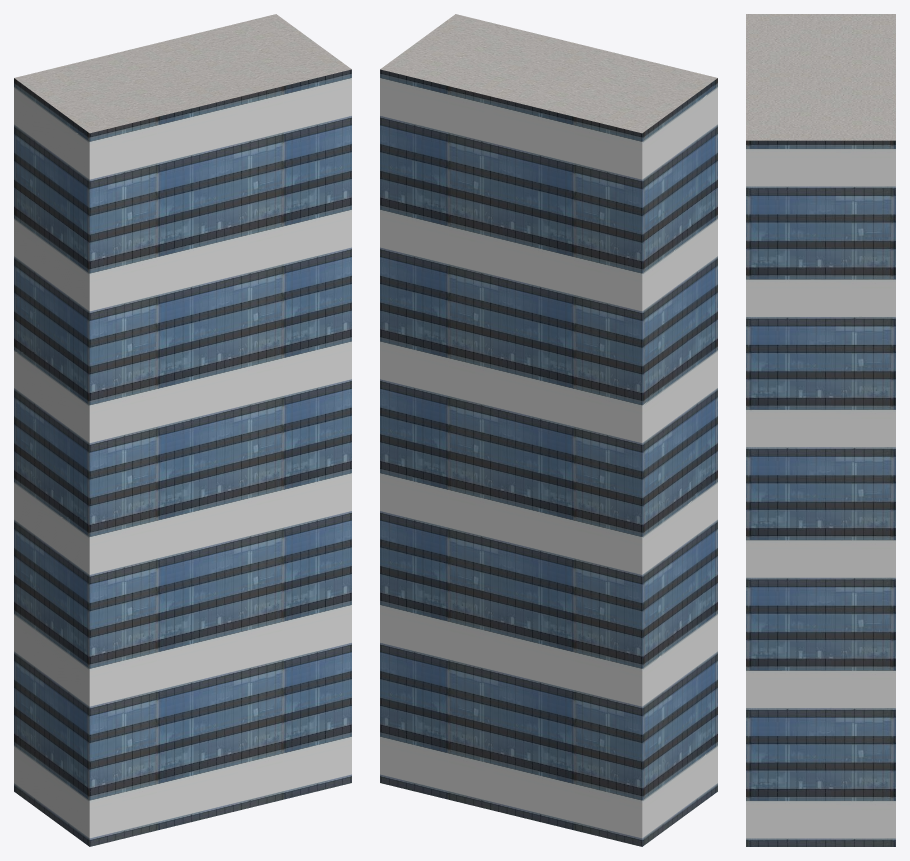
File: building_030.glb
3 views of the same model, side by side, from view 1: azimuth 30°, elevation 25°; view 2: azimuth 150°, elevation 25°; view 3: azimuth 270°, elevation 25° (orthographic).
Visible parts, largest first — view 1: building_030.001; view 2: building_030.001; view 3: building_030.001.
Part boxes in pixels (bbox=[...]): building_030.001: bbox=[14, 14, 351, 846]; building_030.001: bbox=[380, 14, 717, 846]; building_030.001: bbox=[746, 14, 895, 846].
Size of the model in its own units: 15 by 39 by 7.5.
Materials: 2 (2 with a texture image).
